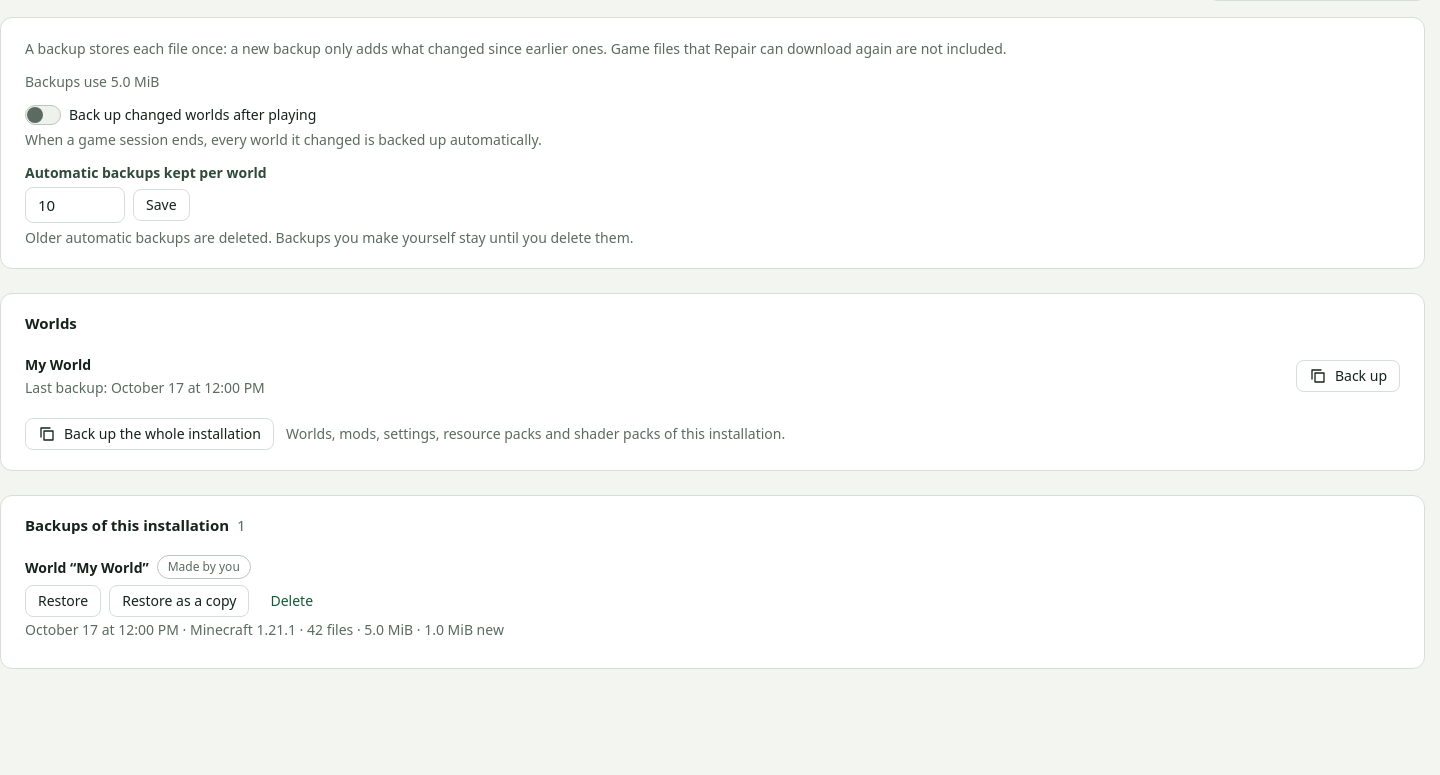
BackupsView › lists backups and restores or deletes them after confirmation
Expected: the text "Made by you" is shown, [157,555,251,579]
Click the button "Restore" at (63, 601), box [25,585,101,617]
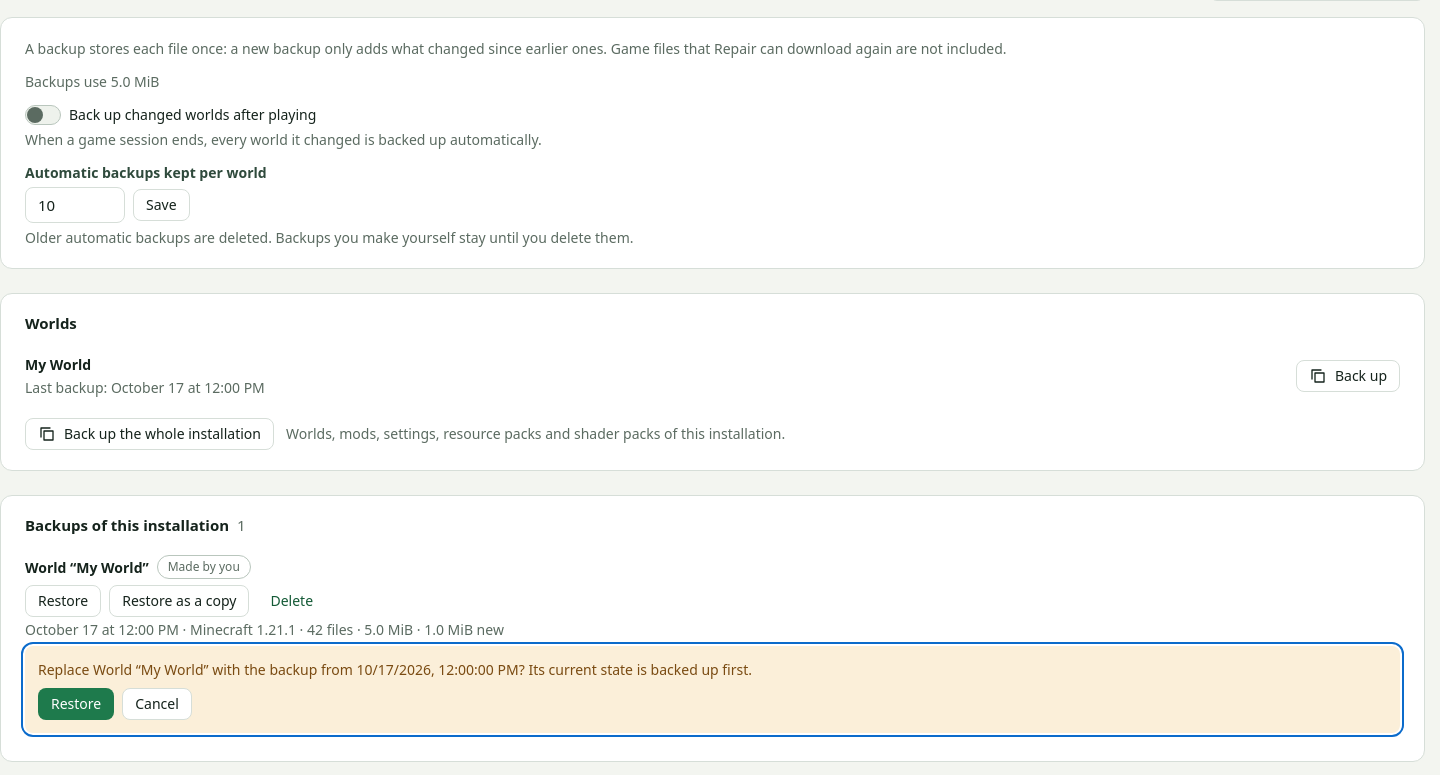
Expected: the text "Its current state is backed up first" is shown, [38,660,752,679]
Click the 2nd button "Restore" at (76, 704), box [38,688,114,720]
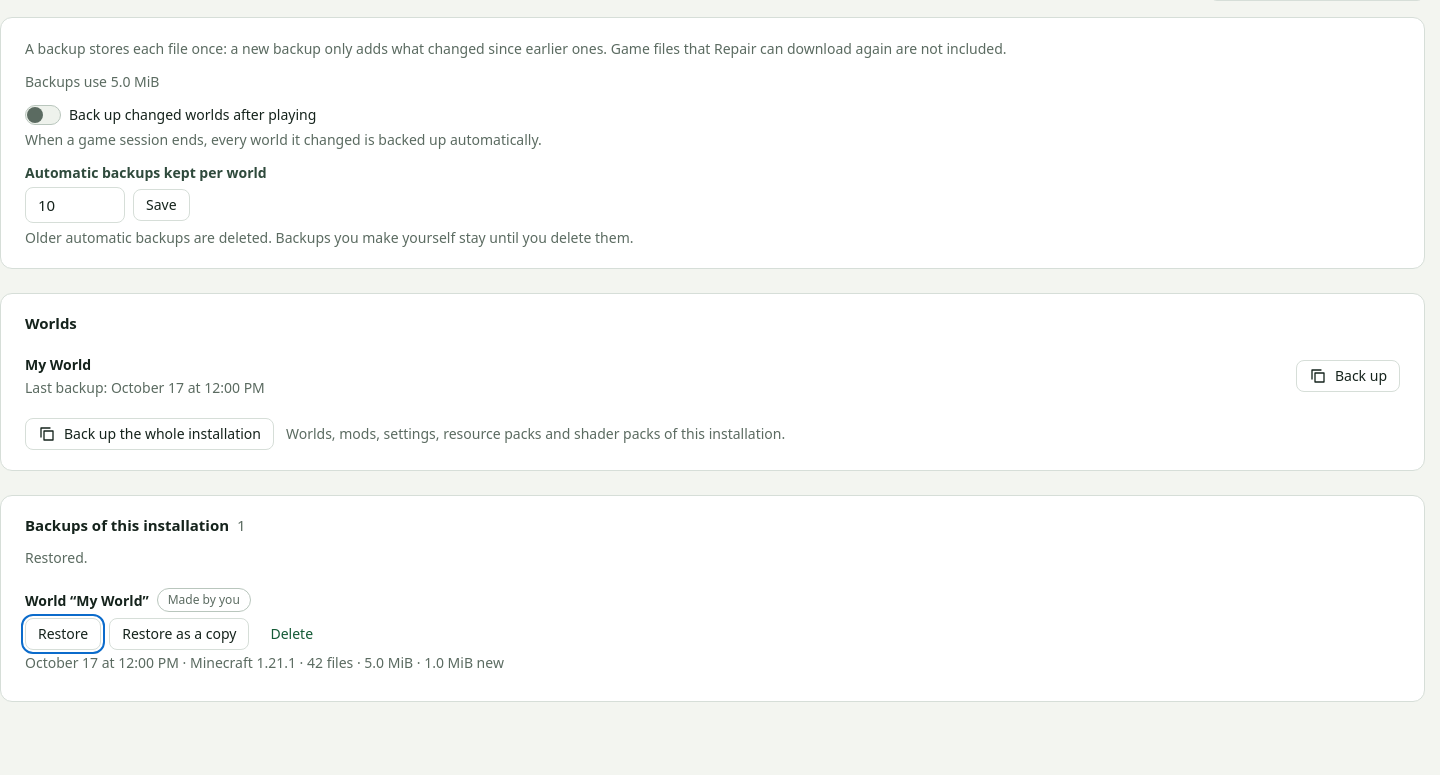
Expected: the text "Restored." is shown, [25,548,88,567]
Click the button "Restore as a copy" at (179, 634), box [109,618,249,650]
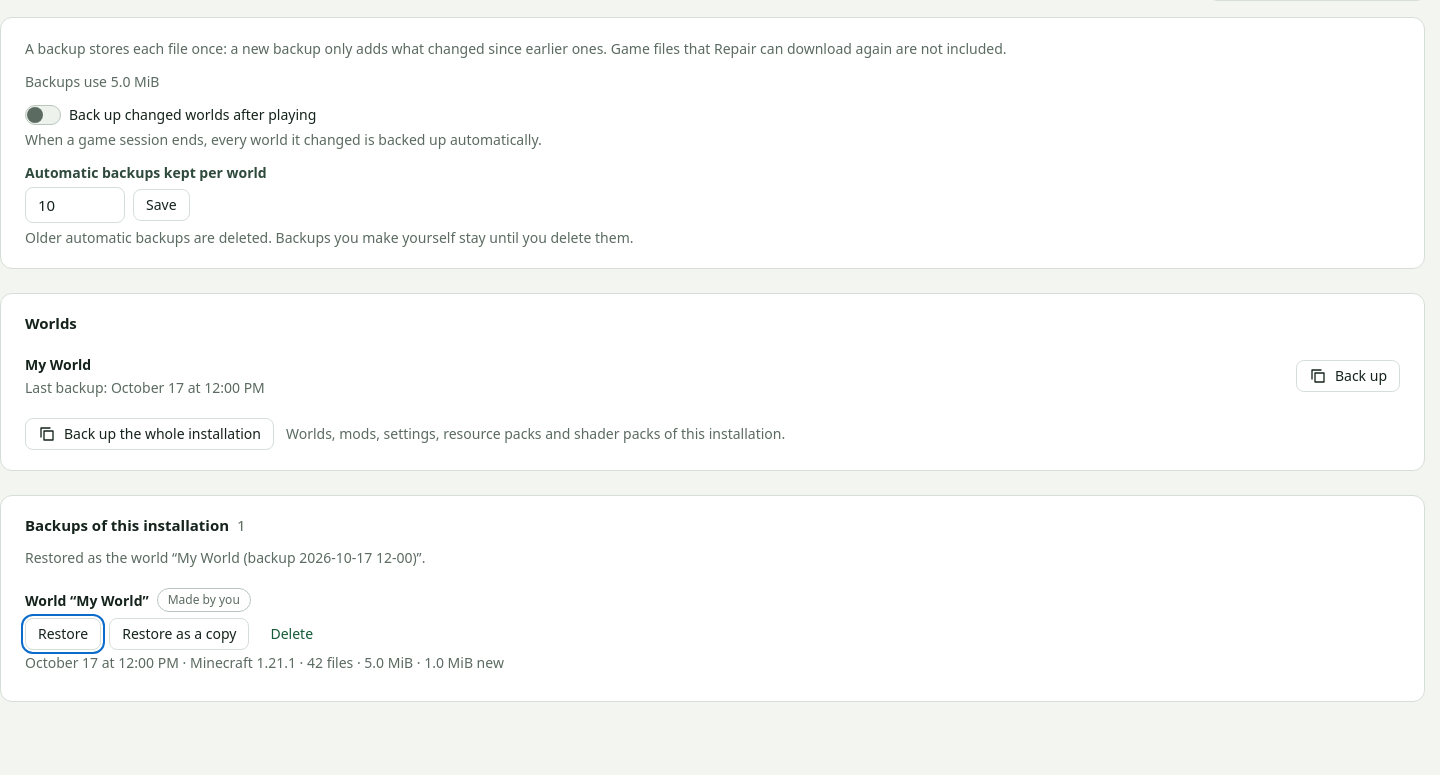
Click the button "Delete" at (292, 634), box [258,618,326,650]
(page scrolled)
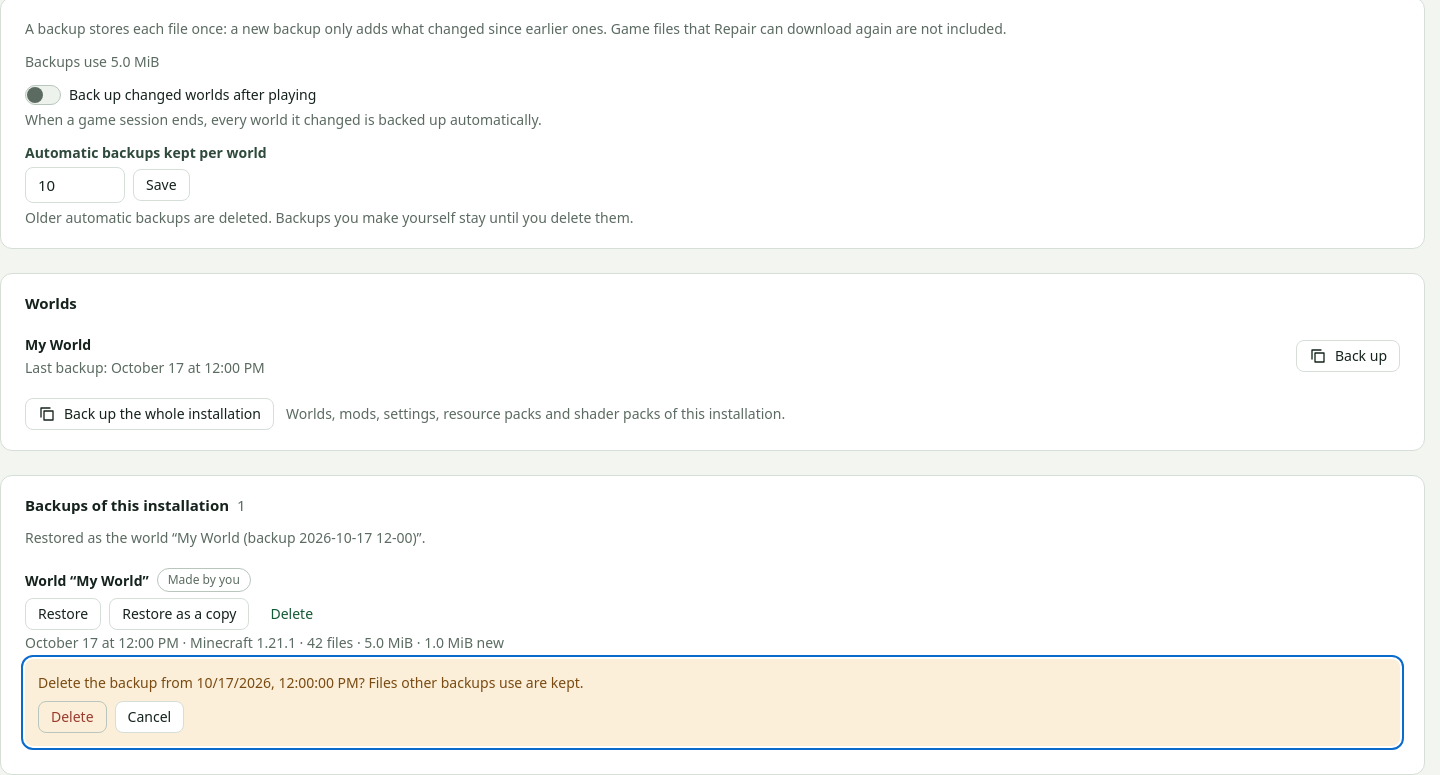
Click the 2nd button "Delete" at (72, 717), box [38,701,107,733]
(page scrolled)
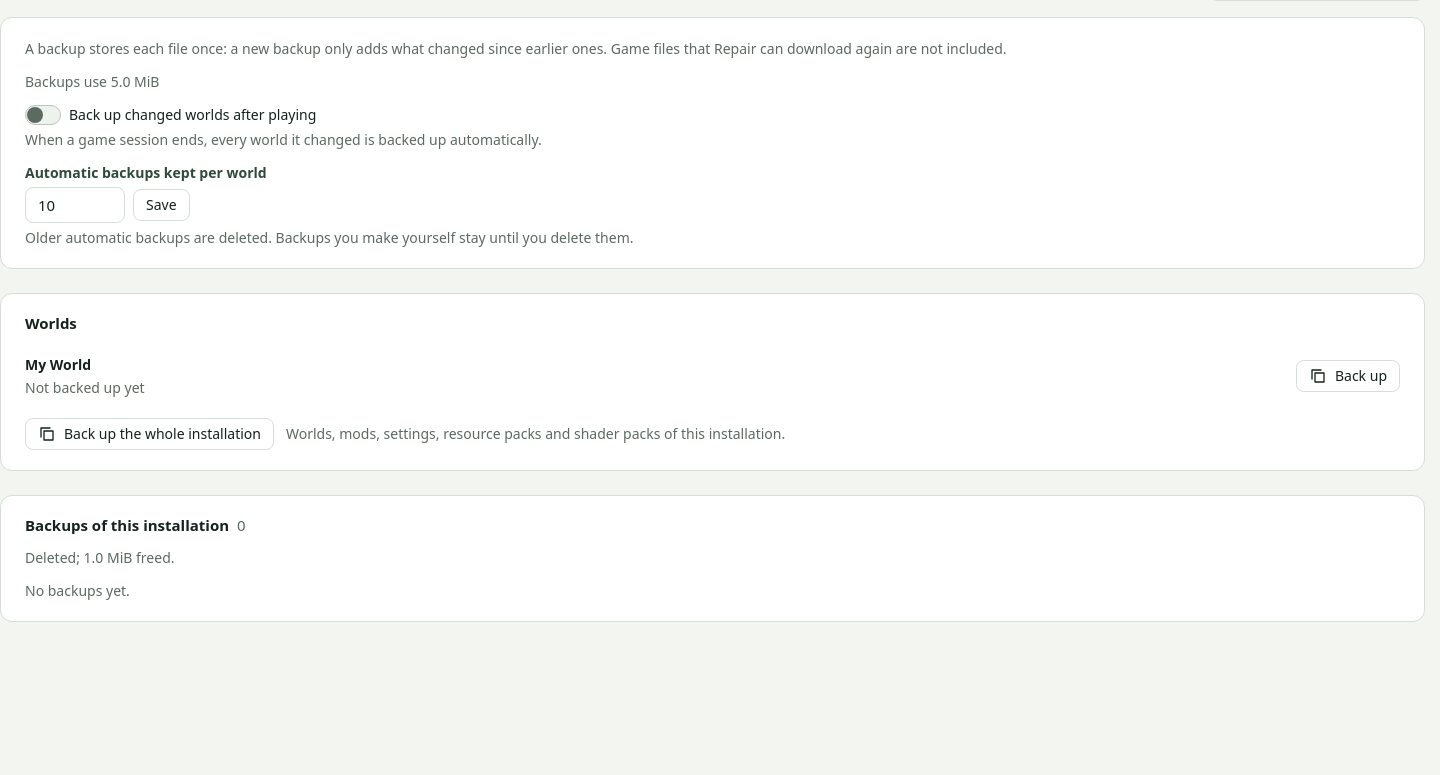
Expected: the text "No backups yet." is shown, [25,581,130,600]
